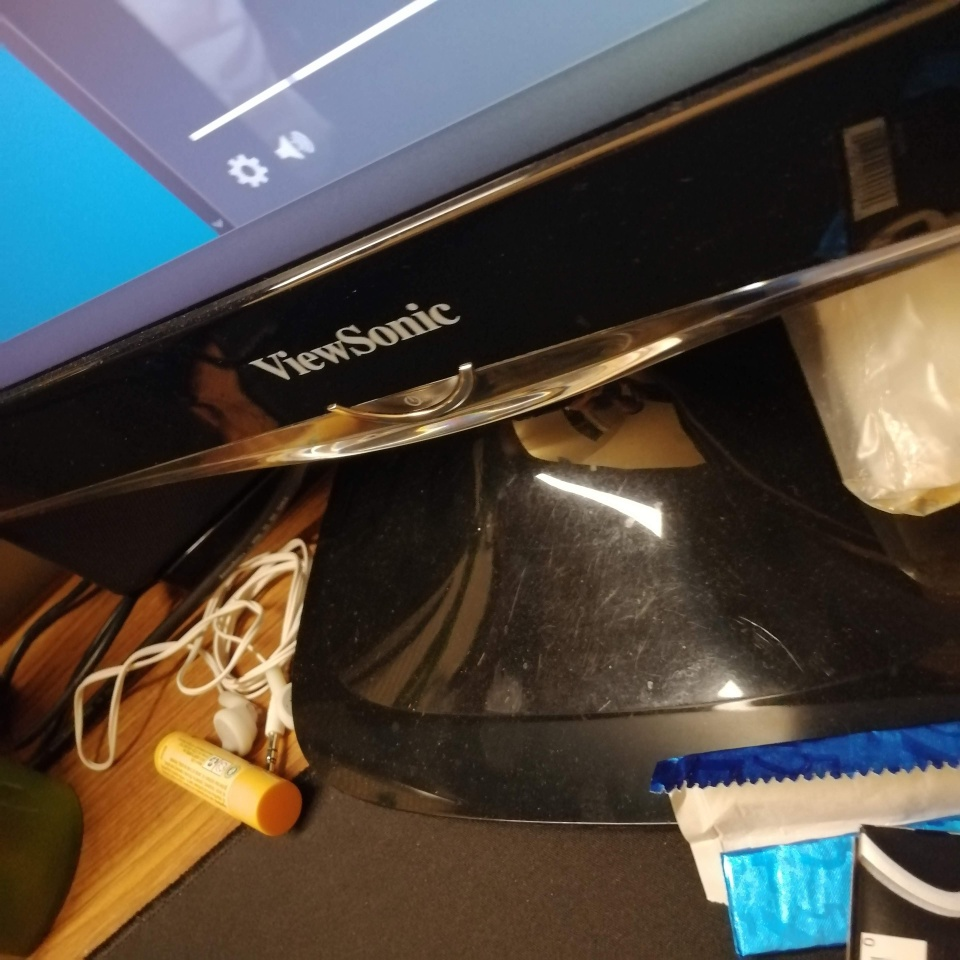chapstick: (154, 730, 303, 840)
